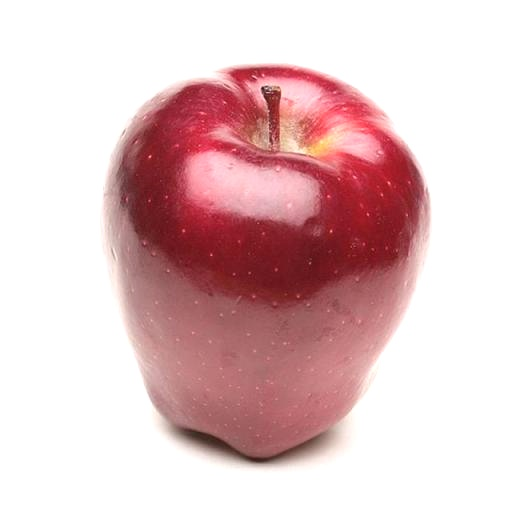fruit: (48, 120, 169, 442)
